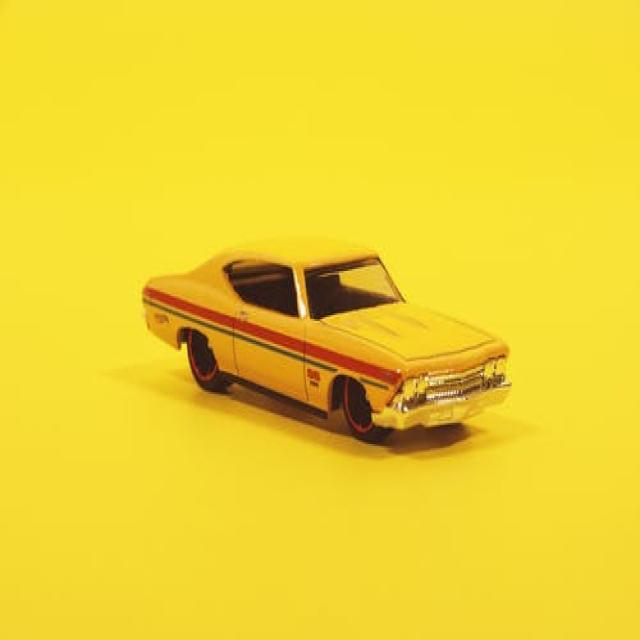Car: (141, 235, 512, 442)
